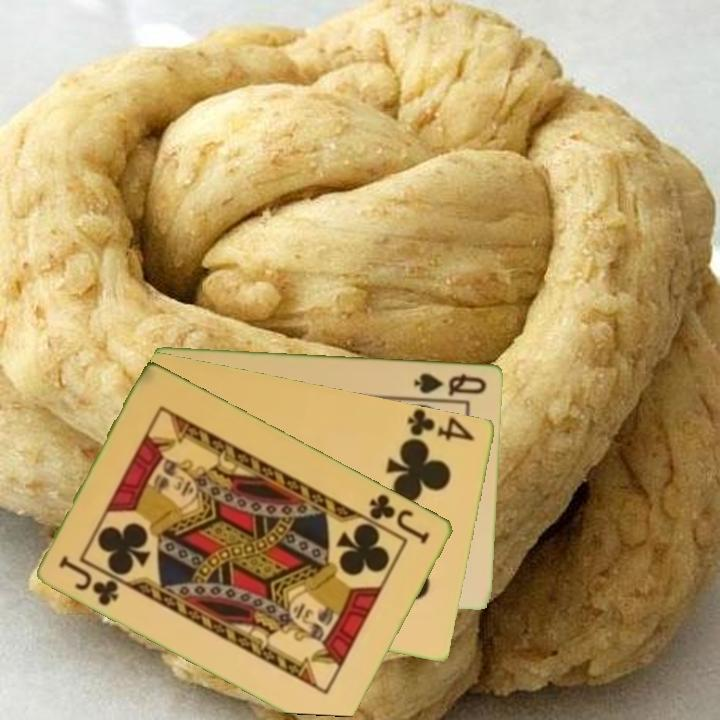4c: (404, 407, 477, 443)
Jc: (56, 551, 122, 609), (366, 490, 433, 547)
Qs: (411, 369, 490, 399)
